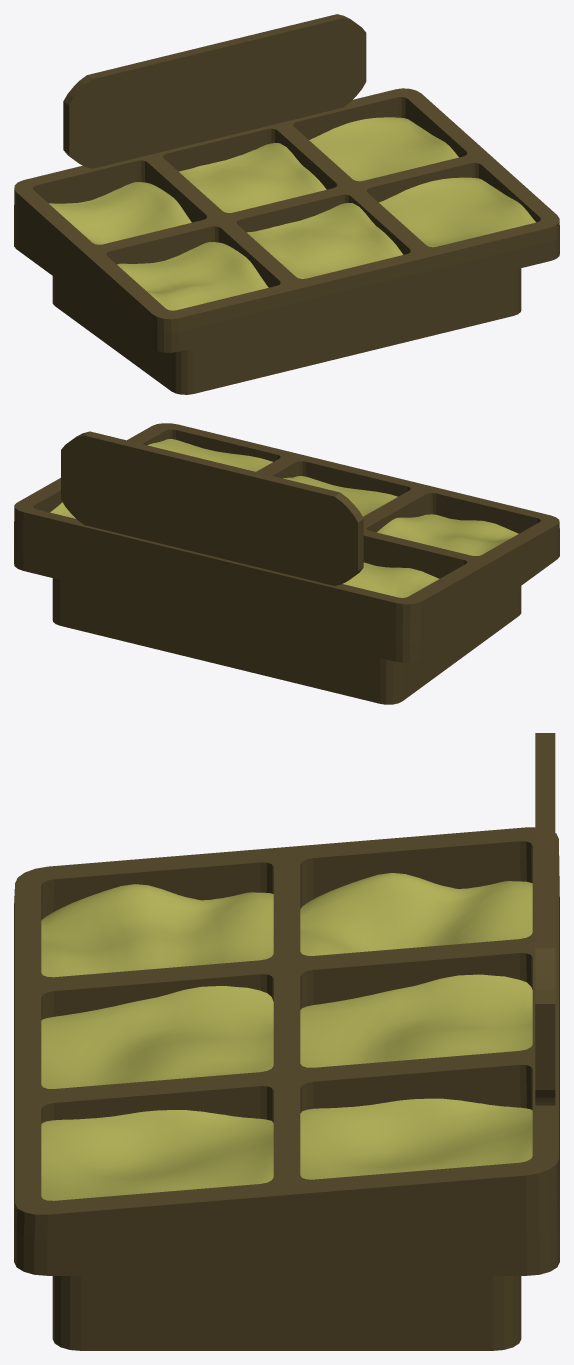
The model's file is ejder-devekusu_tezgah_2.fbx.
3 renders of one model, top to bottom at view 1: azimuth 30°, elevation 25°; view 2: azimuth 150°, elevation 25°; view 3: azimuth 270°, elevation 25°, orthographic. The views are drawn at different scales.
Parts seen in each view (by area): view 1: Plane.012, Plane.014, Cube.009, Plane.013; view 2: Plane.012, Cube.009, Plane.013, Plane.014; view 3: Plane.012, Plane.014, Plane.013, Cube.009.
Part boxes in pixels (x1,y1,x2,y2): Plane.012: (14, 88, 559, 352); Plane.014: (49, 117, 535, 310); Cube.009: (63, 14, 366, 168); Plane.013: (52, 268, 521, 394); Plane.012: (14, 423, 559, 662); Cube.009: (61, 431, 363, 585); Plane.013: (52, 578, 521, 704); Plane.014: (50, 439, 518, 597); Plane.012: (14, 827, 559, 1275); Plane.014: (41, 873, 532, 1200); Plane.013: (52, 1276, 521, 1350); Cube.009: (535, 733, 555, 1105).
Size of the model in its own units: 414 by 201 by 274.
